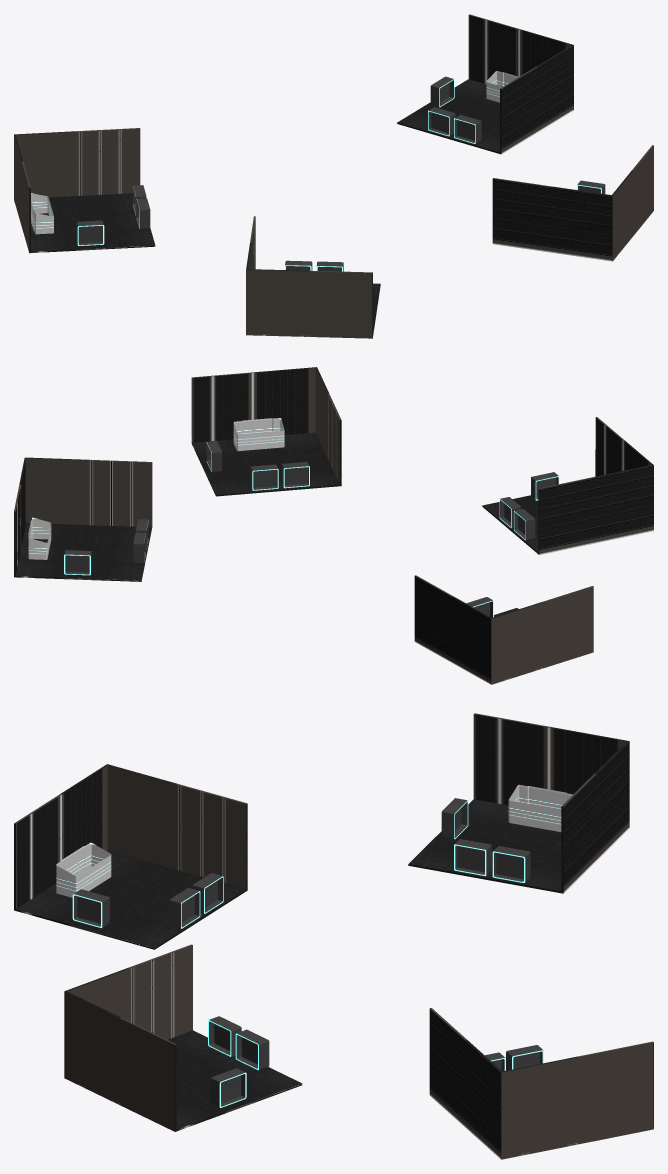
The model's file is MeshBaker (1)-mesh-mesh.fbx.
The picture shows the model from 3 angles, top to bottom: view 1: azimuth 30°, elevation 25°; view 2: azimuth 150°, elevation 25°; view 3: azimuth 270°, elevation 25°; orthographic projection. The views are drawn at different scales.
Visible parts, largest first — view 1: MeshBaker__1__mesh_mesh; view 2: MeshBaker__1__mesh_mesh; view 3: MeshBaker__1__mesh_mesh.
Part boxes in pixels (bbox=[...]): MeshBaker__1__mesh_mesh: bbox=[14, 14, 653, 338]; MeshBaker__1__mesh_mesh: bbox=[14, 367, 653, 684]; MeshBaker__1__mesh_mesh: bbox=[14, 713, 653, 1159].
Bounding box in the file's own units: 2668 × 301 × 2007.
